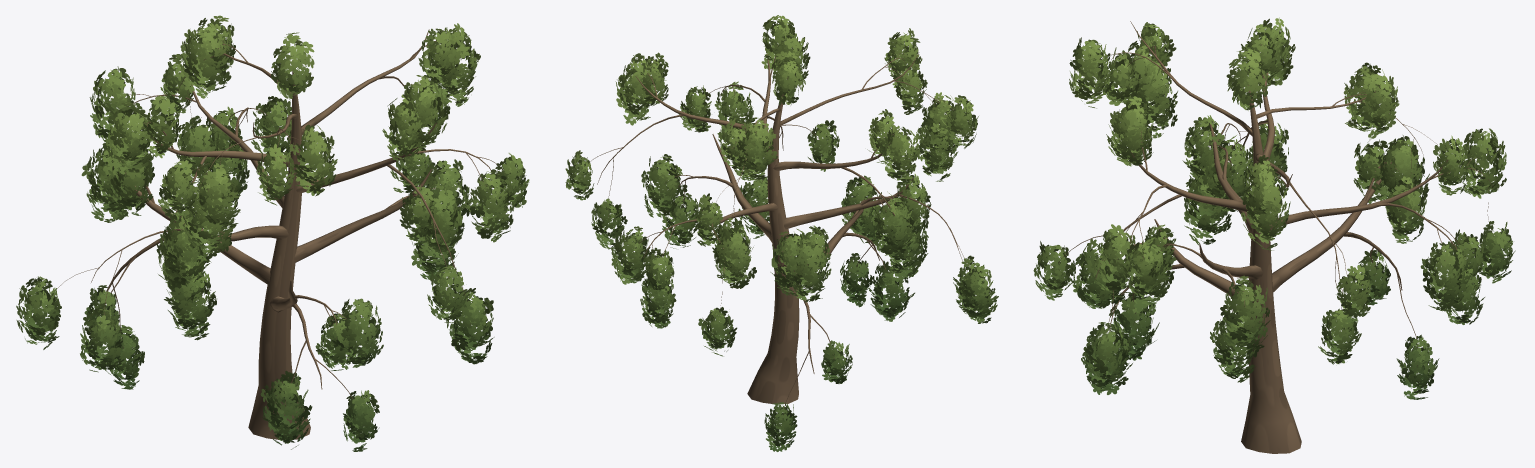
File: tree.gltf
3 renders of one model, left to right at view 1: azimuth 30°, elevation 25°; view 2: azimuth 150°, elevation 25°; view 3: azimuth 270°, elevation 25°, orthographic. The views are drawn at different scales.
Parts seen in each view (by area): view 1: Tree_LOD0; view 2: Tree_LOD0; view 3: Tree_LOD0.
Boxes of the visible parts, bbox=[...] form: Tree_LOD0: bbox=[16, 15, 529, 451]; Tree_LOD0: bbox=[565, 15, 998, 451]; Tree_LOD0: bbox=[1033, 17, 1515, 453].
Bounding box in the file's own units: 21.55 × 17.39 × 19.62.
2 materials, 2 textured.
